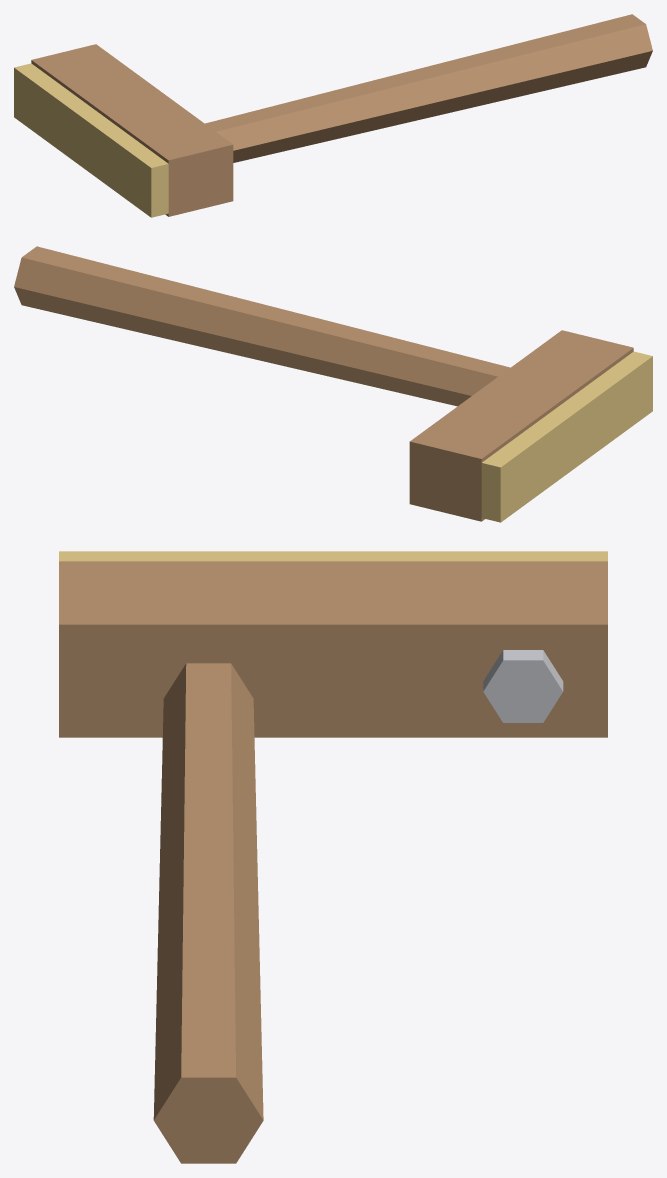
File: prop-veneer-hammer.fbx
3 views of the same model, one above another, from view 1: azimuth 30°, elevation 25°; view 2: azimuth 150°, elevation 25°; view 3: azimuth 270°, elevation 25° (orthographic). The views are drawn at different scales.
Visible parts, largest first — view 1: prop-veneer-hammer; view 2: prop-veneer-hammer; view 3: prop-veneer-hammer.
Part boxes in pixels (x1,y1,x2,y2): prop-veneer-hammer: (14, 14, 652, 217); prop-veneer-hammer: (14, 246, 652, 522); prop-veneer-hammer: (59, 551, 607, 1163).
Bounding box in the file's own units: 24.3 × 2.5 × 11.
